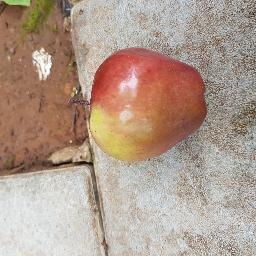Good_apple: (90, 48, 205, 163)
